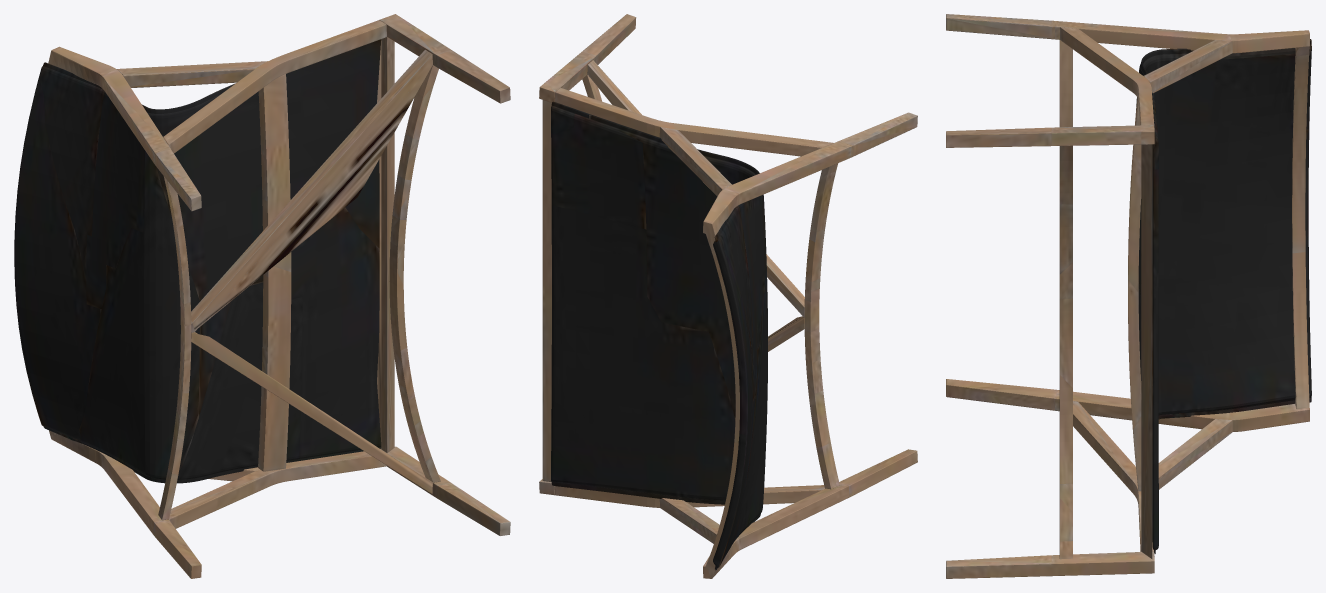
The model's file is chair_1.glb.
3 renders of one model, left to right at view 1: azimuth 30°, elevation 25°; view 2: azimuth 150°, elevation 25°; view 3: azimuth 270°, elevation 25°, orthographic. The views are drawn at different scales.
Visible parts, largest first — view 1: chair_1; view 2: chair_1; view 3: chair_1.
Part boxes in pixels (left/top/right/bottom): chair_1: left=14, top=14, right=510, bottom=578; chair_1: left=539, top=14, right=917, bottom=578; chair_1: left=946, top=14, right=1311, bottom=578.
Size of the model in its own units: 0.7966 by 1.07 by 0.7955.
1 material, 1 textured.
